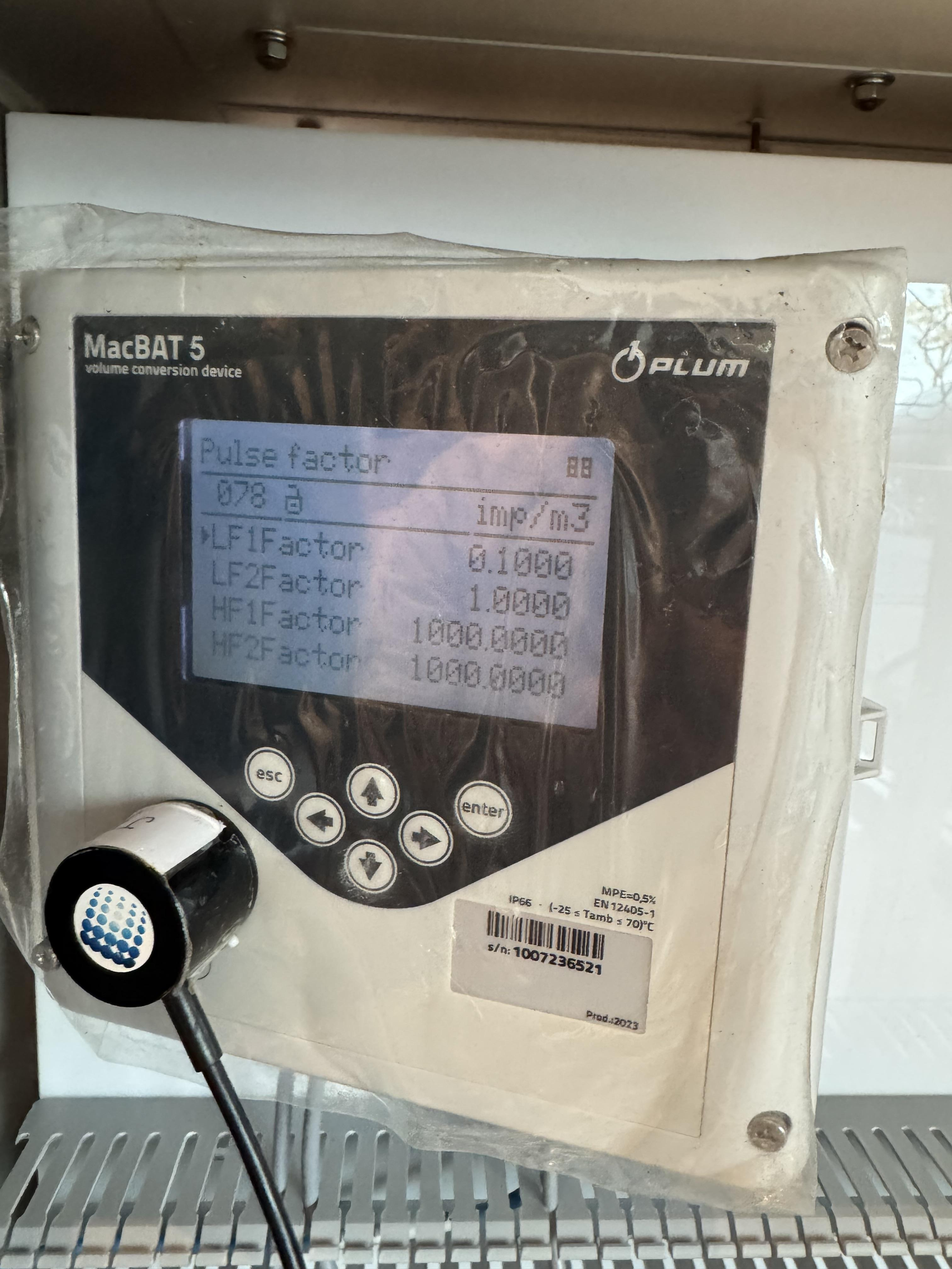digital_screen: (149, 390, 630, 729)
